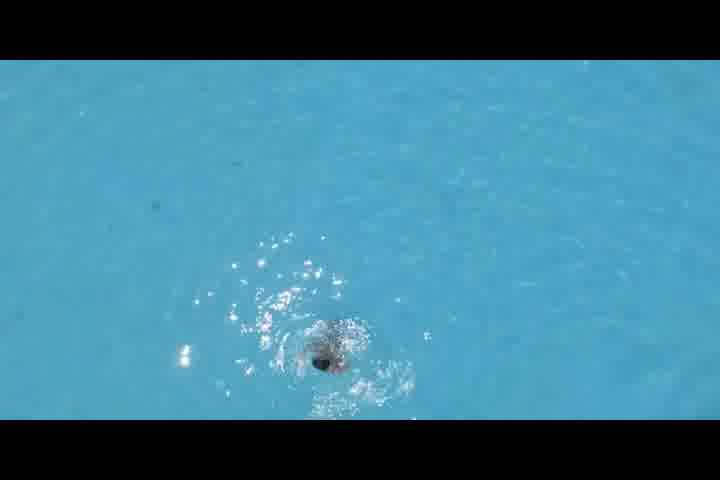human: (302, 344, 344, 376)
